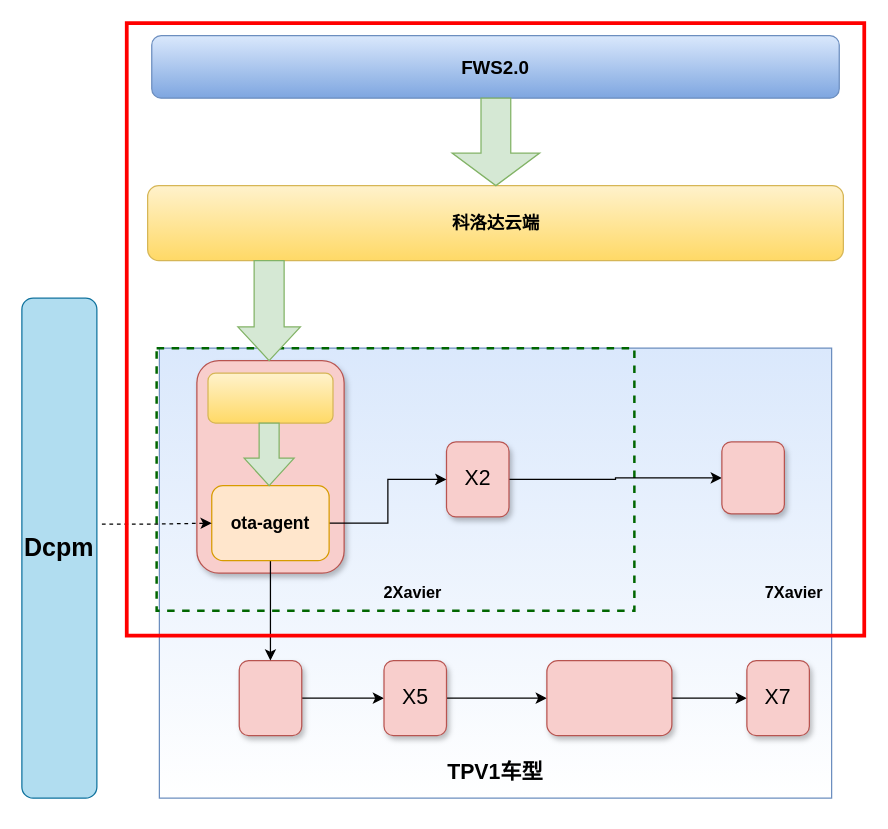
The diagram is 888 pixels wide and 829 high, and some of its shapes have lost their labels. Each missing label, with the centre of its shape:
DA: (270,397)
X3: (754,479)
X4: (271,699)
Xavier6: (610,699)
